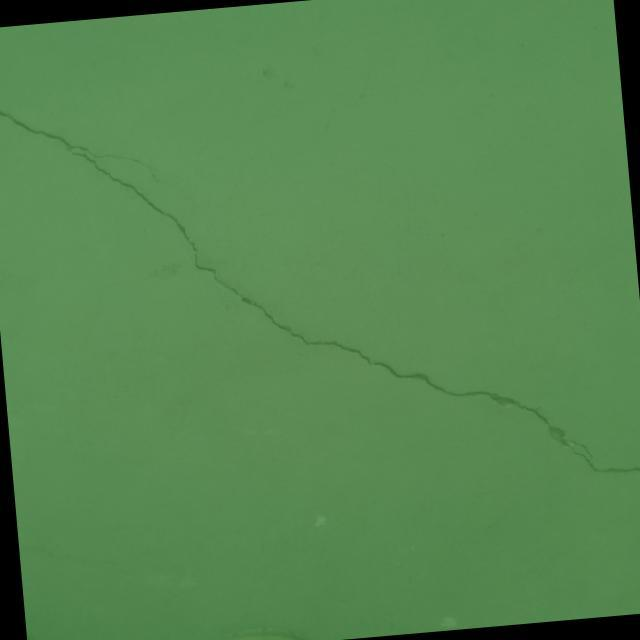crack: (0, 51, 640, 544)
